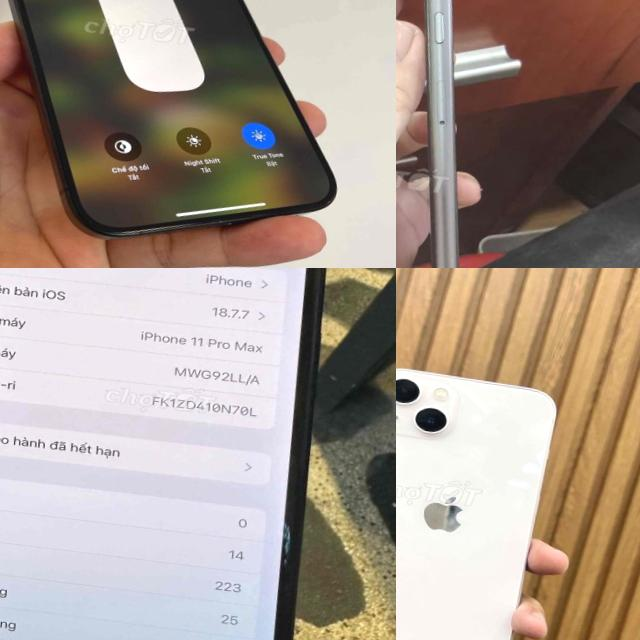gen_11: (0, 268, 323, 640)
gen_12_13: (396, 356, 567, 640)
gen_15: (0, 0, 378, 268)
scratch: (396, 0, 513, 268)
